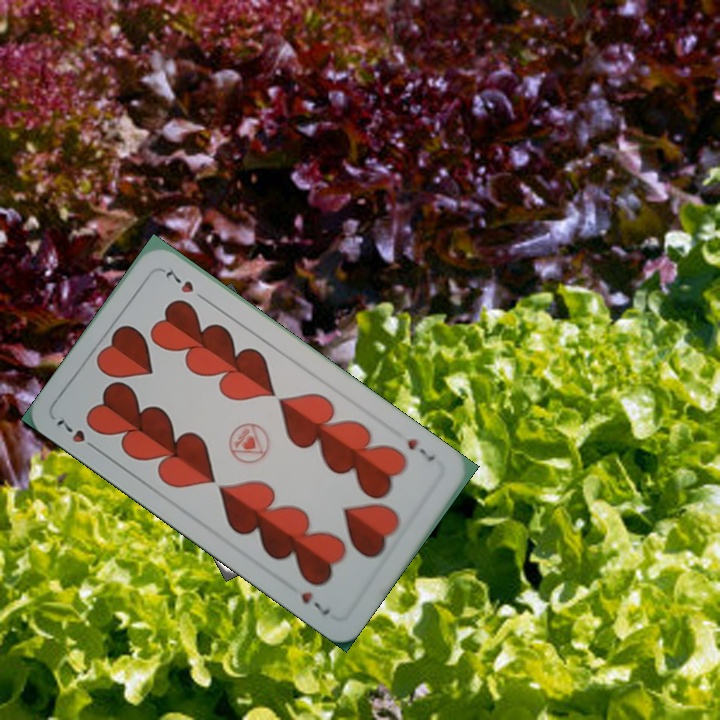H7: (51, 412, 102, 455), (403, 434, 438, 464)
